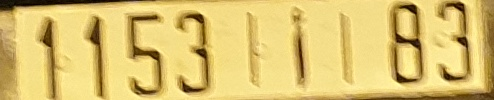1: (35, 16, 61, 100), (81, 15, 106, 100)
3: (174, 10, 212, 95), (435, 1, 471, 81)
5: (124, 12, 165, 99)
8: (387, 3, 424, 85)
a: (287, 5, 311, 89)
